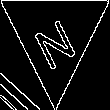N_NW: (29, 5, 81, 68)
